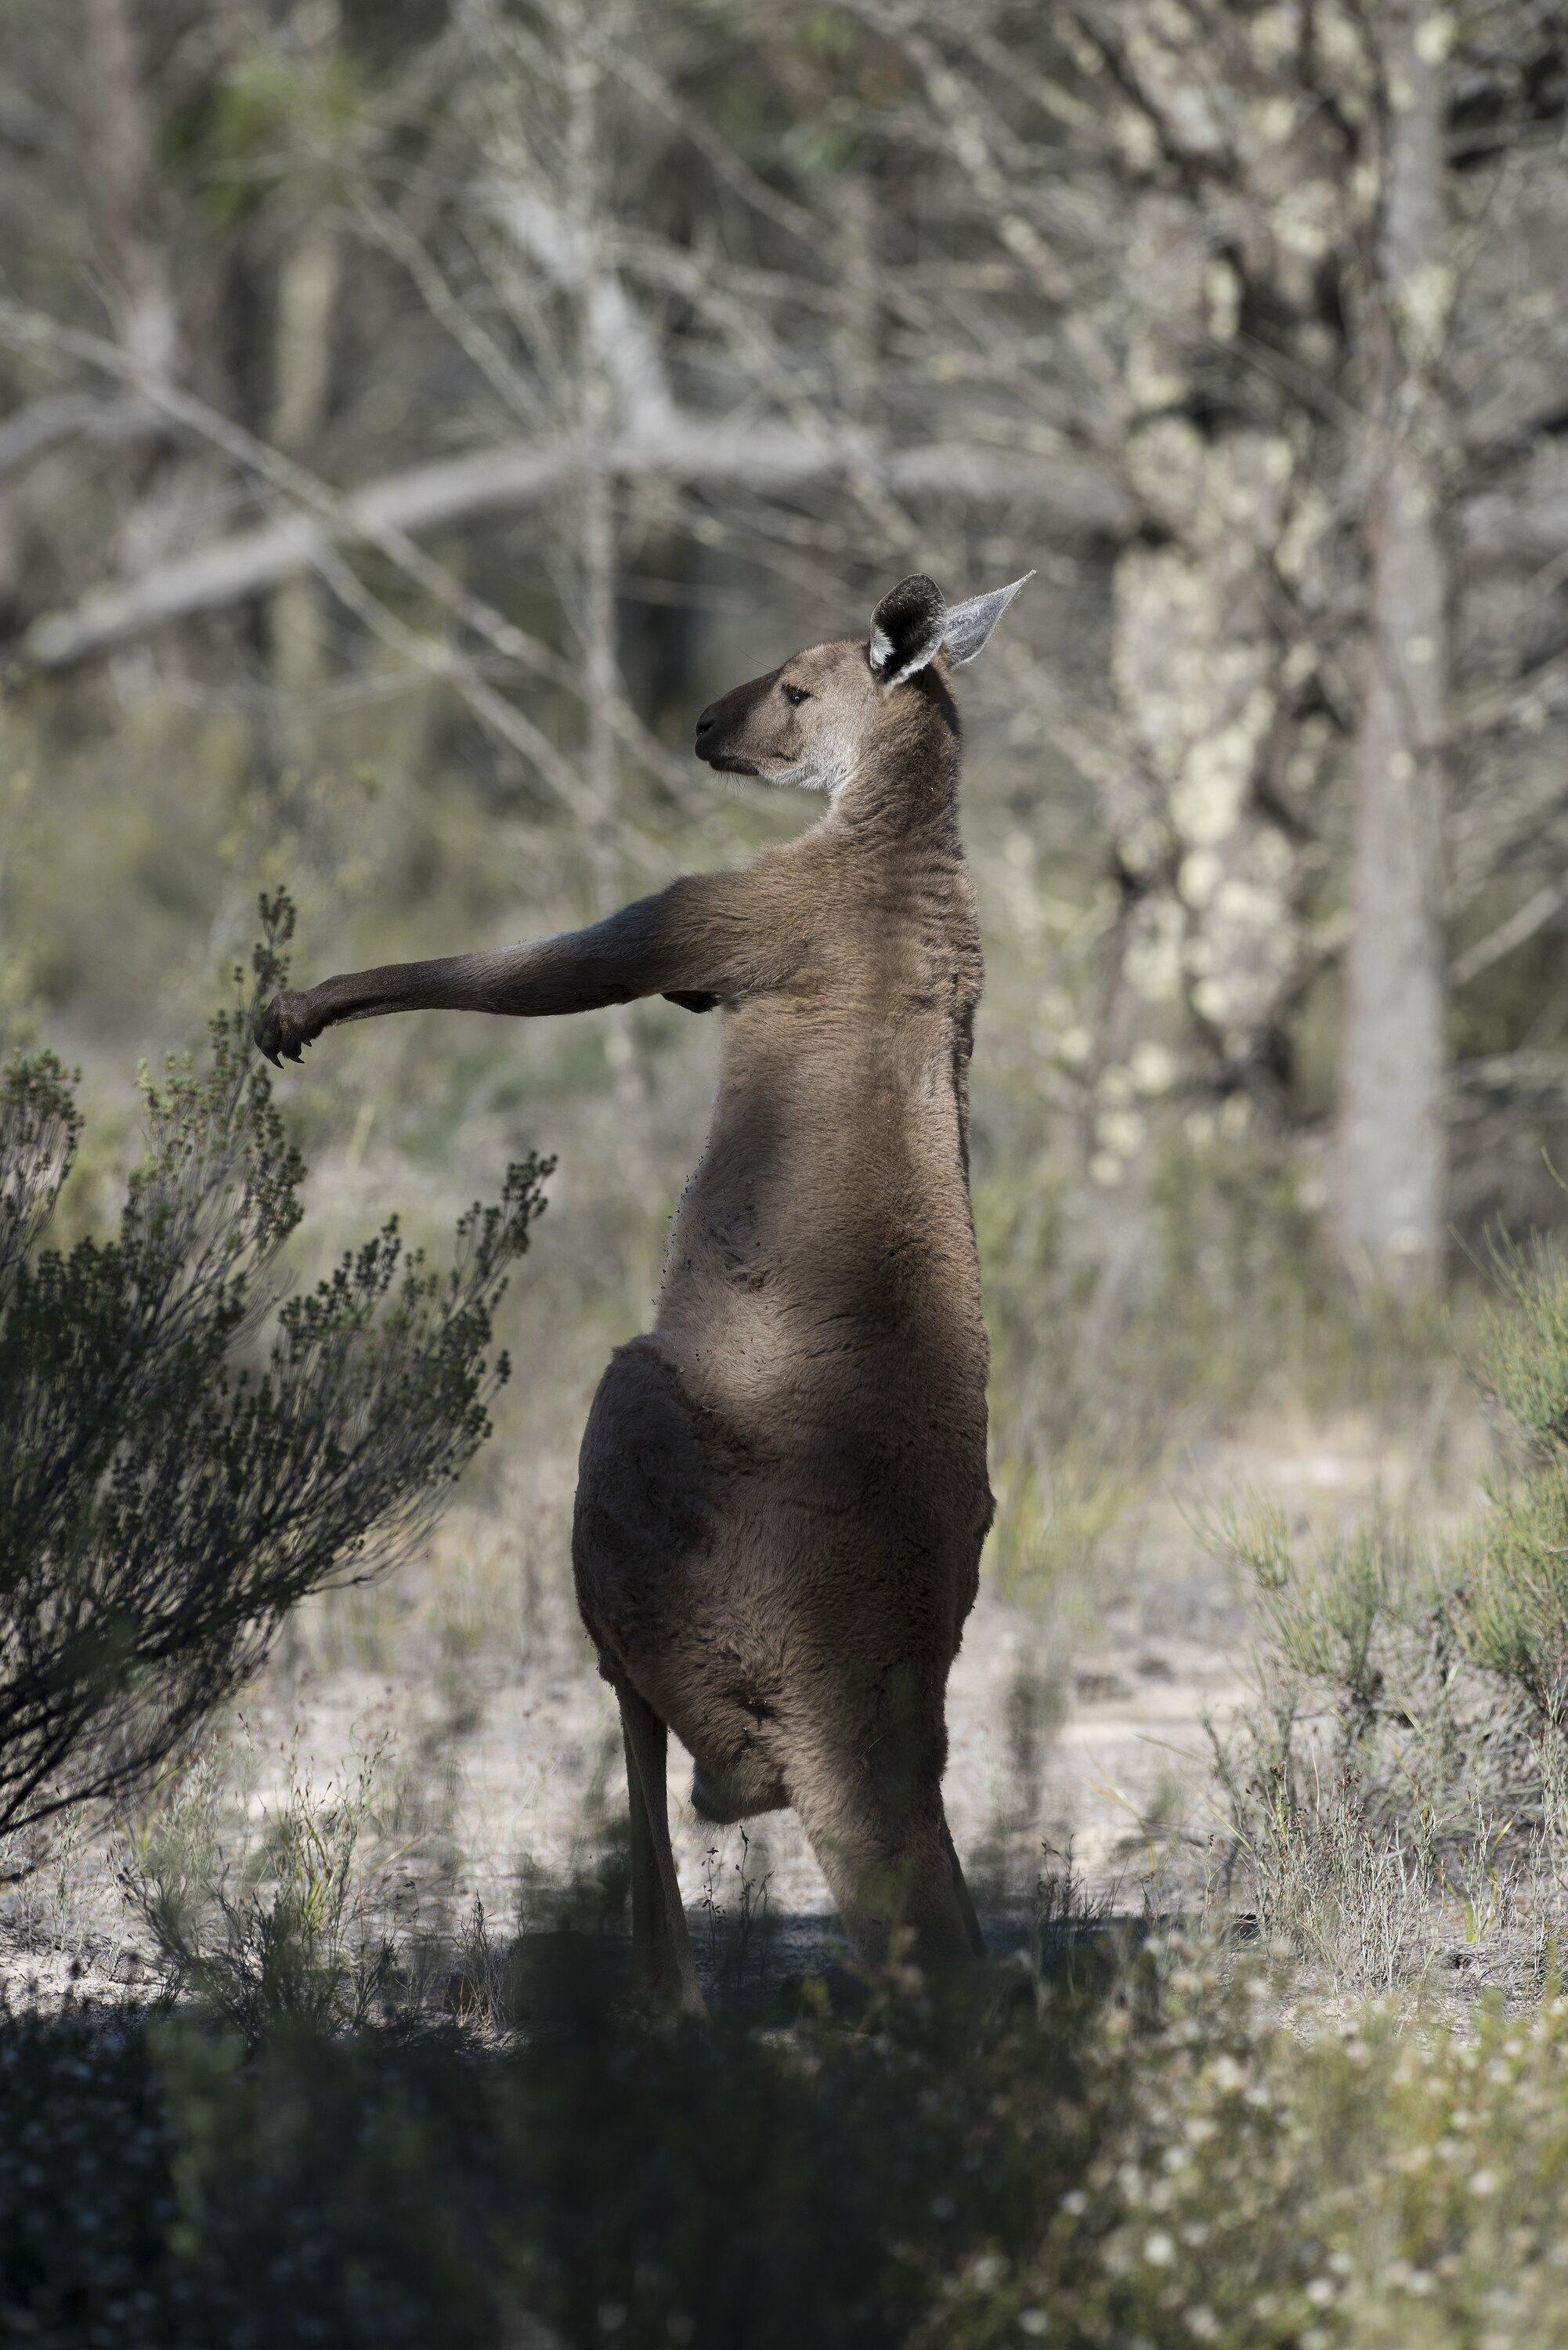Western grey kangaroo: (275, 588, 1179, 2019)
